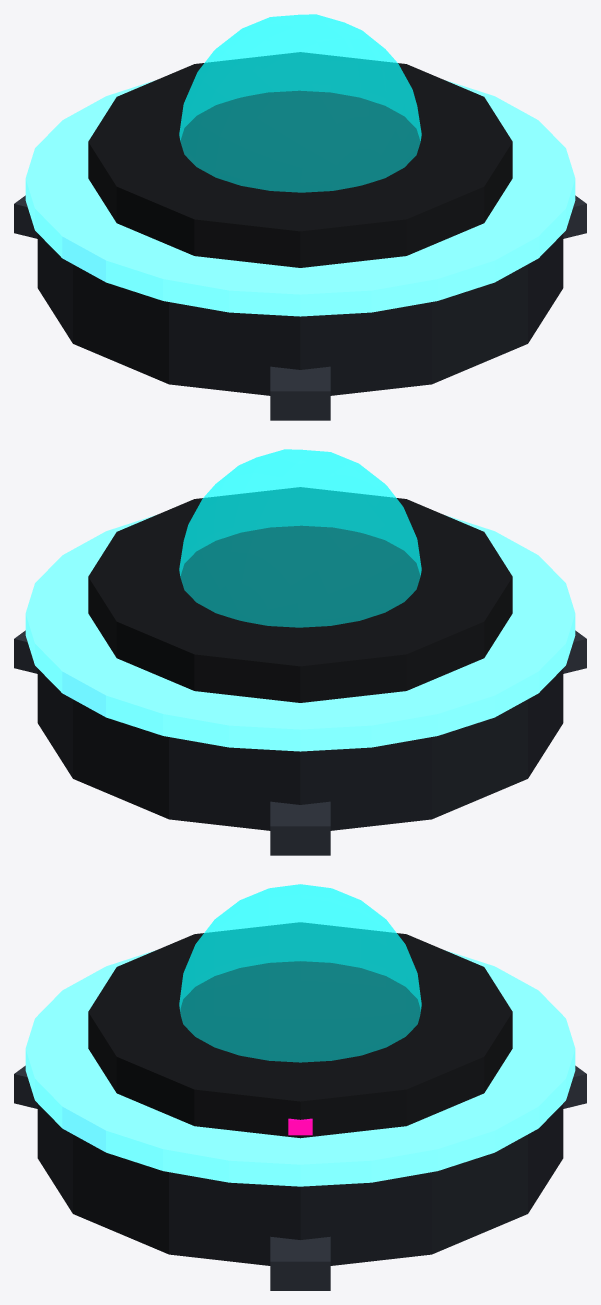
File: Tool_EMP_Jammer.fbx
3 views of the same model, one above another, from view 1: azimuth 30°, elevation 25°; view 2: azimuth 150°, elevation 25°; view 3: azimuth 270°, elevation 25° (orthographic).
Visible parts, largest first — view 1: Tool_EMP_Jammer__CarbonFiber, Tool_EMP_Jammer__NeonBlue, Tool_EMP_Jammer__DarkMetal, Tool_EMP_Jammer__HoloCyan, Tool_EMP_Jammer__SteelPanel; view 2: Tool_EMP_Jammer__CarbonFiber, Tool_EMP_Jammer__NeonBlue, Tool_EMP_Jammer__DarkMetal, Tool_EMP_Jammer__HoloCyan, Tool_EMP_Jammer__SteelPanel; view 3: Tool_EMP_Jammer__CarbonFiber, Tool_EMP_Jammer__NeonBlue, Tool_EMP_Jammer__DarkMetal, Tool_EMP_Jammer__HoloCyan, Tool_EMP_Jammer__SteelPanel.
Part boxes in pixels (left/top/right/bottom): Tool_EMP_Jammer__CarbonFiber: left=88, top=52, right=512, bottom=267; Tool_EMP_Jammer__NeonBlue: left=25, top=80, right=575, bottom=316; Tool_EMP_Jammer__DarkMetal: left=37, top=233, right=563, bottom=395; Tool_EMP_Jammer__HoloCyan: left=179, top=14, right=421, bottom=192; Tool_EMP_Jammer__SteelPanel: left=14, top=195, right=586, bottom=420; Tool_EMP_Jammer__CarbonFiber: left=88, top=487, right=512, bottom=702; Tool_EMP_Jammer__NeonBlue: left=25, top=515, right=575, bottom=751; Tool_EMP_Jammer__DarkMetal: left=37, top=668, right=563, bottom=830; Tool_EMP_Jammer__HoloCyan: left=179, top=449, right=421, bottom=627; Tool_EMP_Jammer__SteelPanel: left=14, top=630, right=586, bottom=855; Tool_EMP_Jammer__CarbonFiber: left=88, top=922, right=512, bottom=1138; Tool_EMP_Jammer__NeonBlue: left=25, top=950, right=575, bottom=1186; Tool_EMP_Jammer__DarkMetal: left=37, top=1103, right=563, bottom=1265; Tool_EMP_Jammer__HoloCyan: left=179, top=884, right=421, bottom=1062; Tool_EMP_Jammer__SteelPanel: left=14, top=1065, right=586, bottom=1290.
Bounding box in the file's own units: 1.46 × 0.72 × 1.42.
